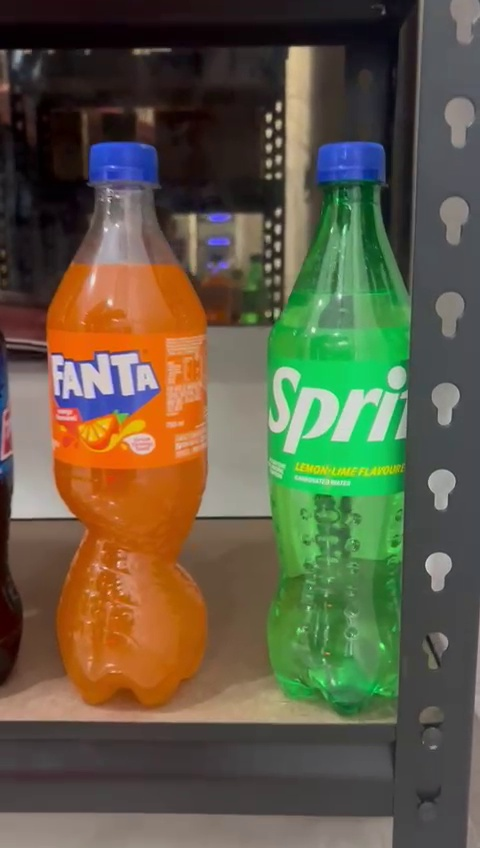Fanta: (35, 132, 224, 705)
Sprit: (259, 137, 421, 717)
